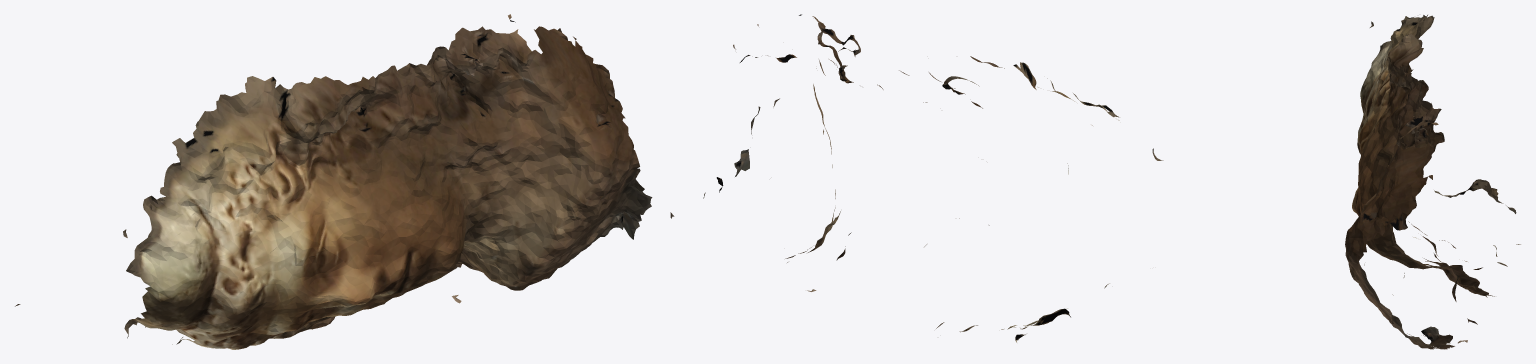
The model's file is mithras.glb.
3 renders of one model, left to right at view 1: azimuth 30°, elevation 25°; view 2: azimuth 150°, elevation 25°; view 3: azimuth 270°, elevation 25°, orthographic. The views are drawn at different scales.
Visible parts, largest first — view 1: Node; view 2: Node; view 3: Node.
Boxes of the visible parts, <box> form: Node: <box>15,14,674,349</box>; Node: <box>703,14,1163,342</box>; Node: <box>1345,15,1520,349</box>.
Size of the model in its own units: 8.09 by 3.68 by 2.87.
1 material, 1 textured.
